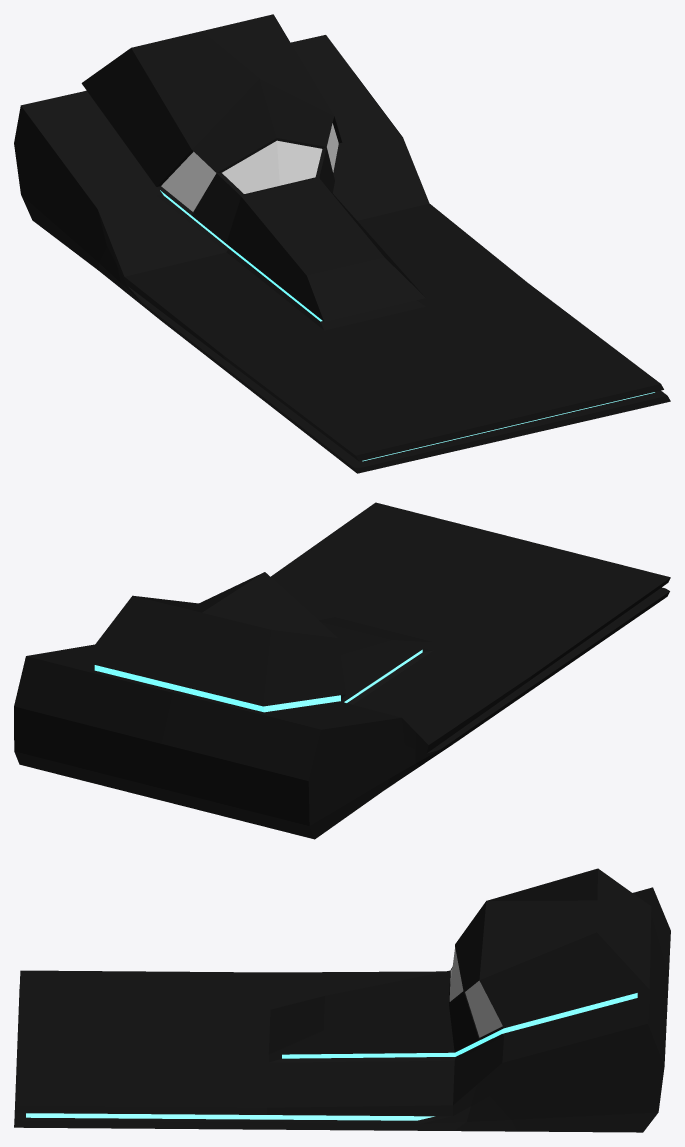
File: nave.fbx
3 renders of one model, top to bottom at view 1: azimuth 30°, elevation 25°; view 2: azimuth 150°, elevation 25°; view 3: azimuth 270°, elevation 25°, orthographic. The views are drawn at different scales.
Parts seen in each view (by area): view 1: nave; view 2: nave; view 3: nave.
Part boxes in pixels (x1,y1,x2,y2): nave: (14,14,670,473); nave: (14,502,670,839); nave: (14,868,670,1132).
Size of the model in its own units: 1510 by 786 by 2911.
